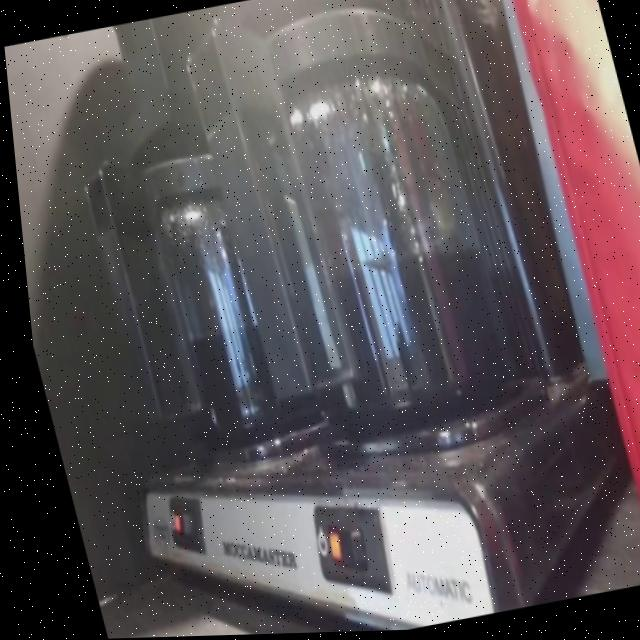coffee: (255, 97, 504, 440), (141, 199, 320, 446)
